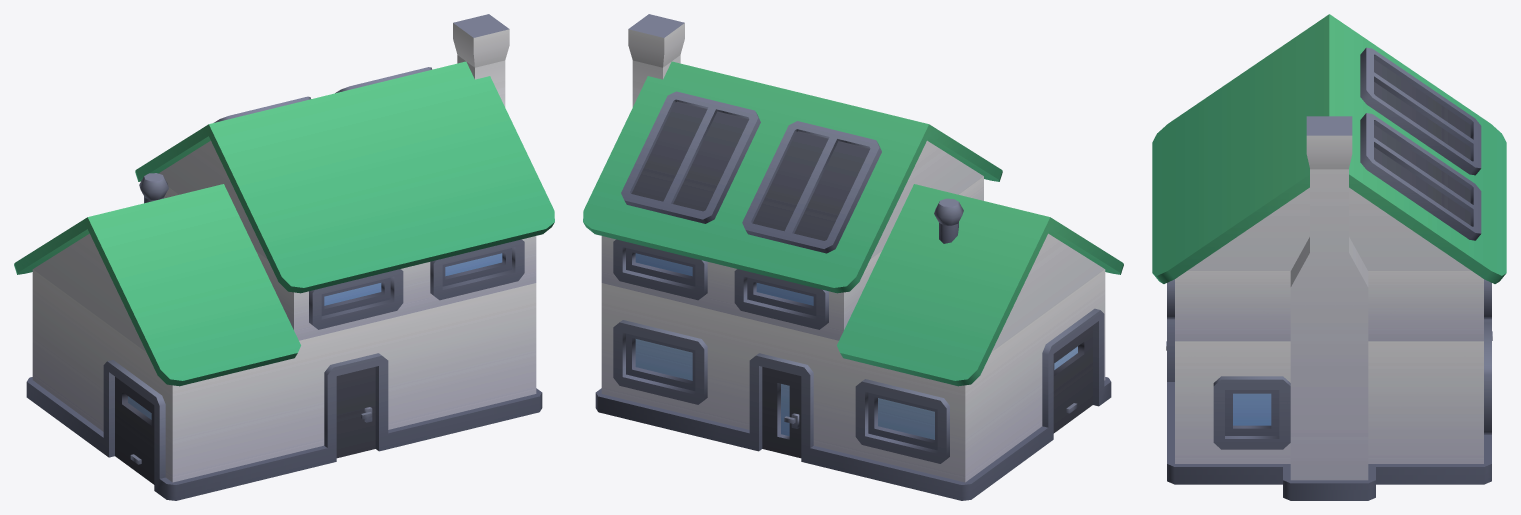
Rendered from sub-building-type-j.glb.
3 views of the same model, side by side, from view 1: azimuth 30°, elevation 25°; view 2: azimuth 150°, elevation 25°; view 3: azimuth 270°, elevation 25° (orthographic). The views are drawn at different scales.
Parts seen in each view (by area): view 1: building-type-j; view 2: building-type-j; view 3: building-type-j.
Part boxes in pixels (box(x1,y1,x2,y2)): building-type-j: box(14, 14, 554, 500); building-type-j: box(583, 14, 1123, 500); building-type-j: box(1152, 14, 1506, 500).
Bounding box in the file's own units: 13.7 × 10.38 × 9.16.
1 material, 1 textured.
